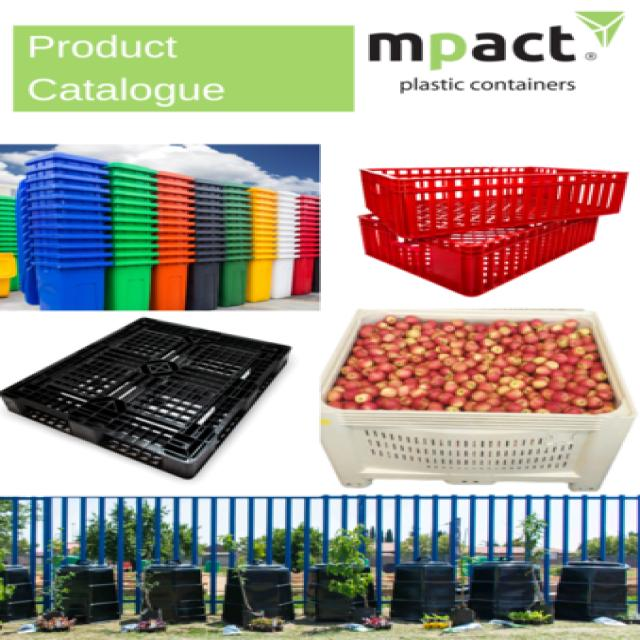basket: (0, 262, 291, 496), (319, 311, 638, 493), (362, 164, 631, 242), (359, 215, 598, 298), (104, 163, 157, 311), (210, 183, 261, 309), (149, 171, 194, 311), (185, 180, 225, 309), (245, 187, 278, 301), (272, 191, 298, 299), (299, 195, 321, 258)
